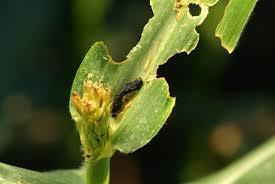fallarmy_worm: (110, 77, 149, 121)
